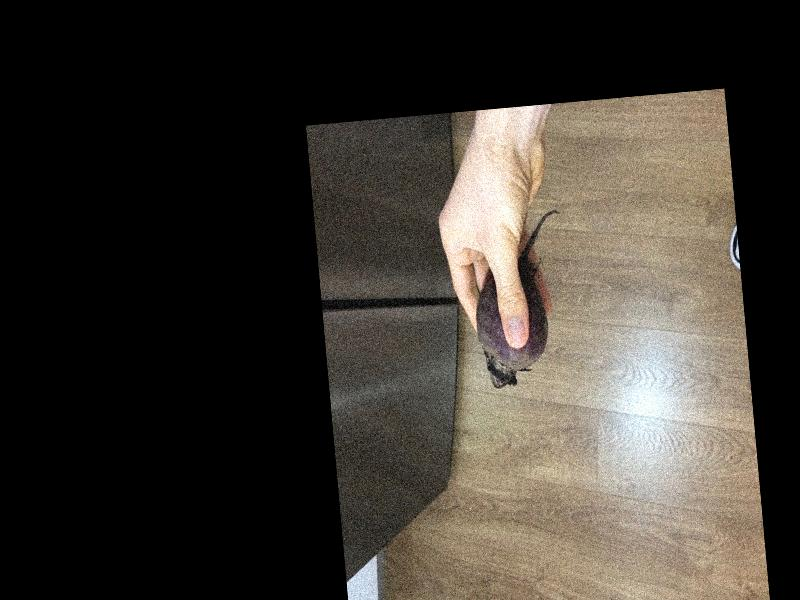Beet: (466, 211, 575, 391)
